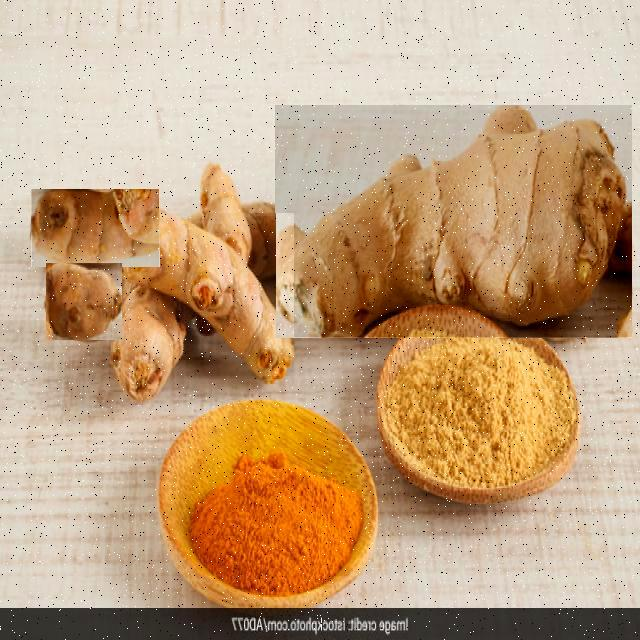ginger: (274, 104, 631, 336), (114, 212, 293, 378), (31, 188, 157, 266), (111, 286, 184, 399), (45, 263, 119, 338)
